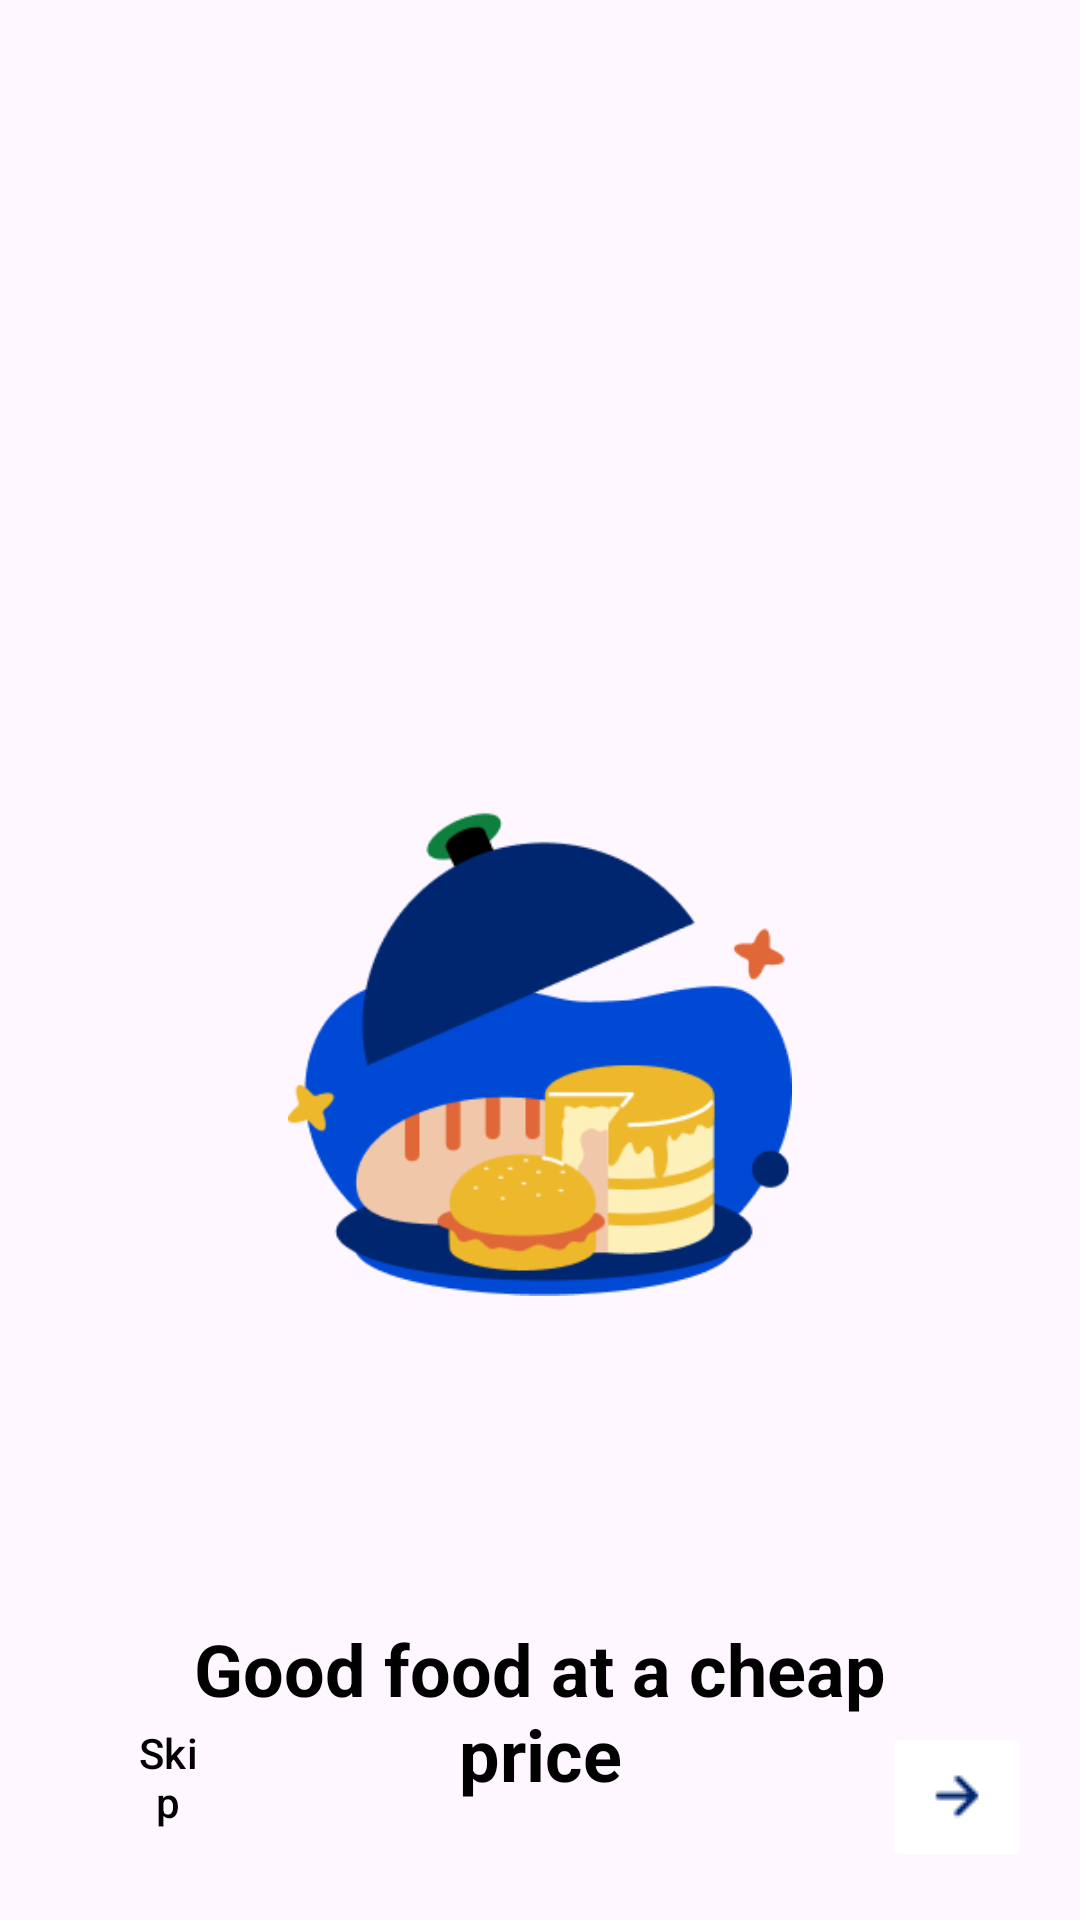

Where icons sit on this 1080 x 1920 app screen, as region(x1, y1, x2, y2):
next: region(935, 1775, 979, 1818)
